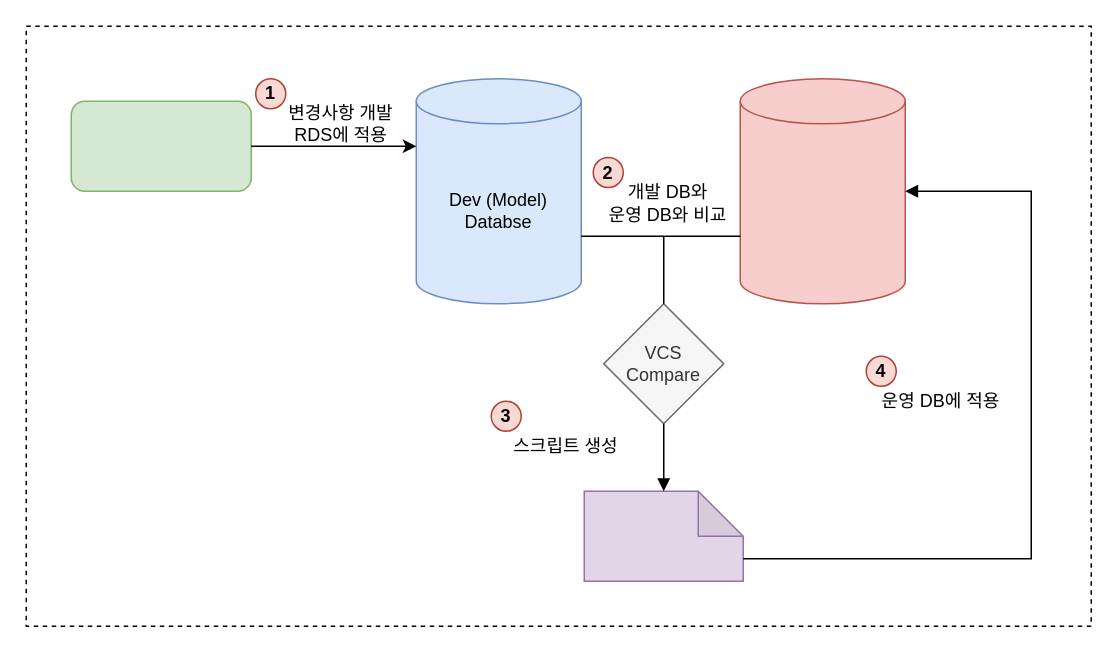
This 1118x653 diagram has some shape labels left out. The shapes that lost their labels are listed below. From the top down, each one's box as (x1, y1, x2, y2) in pixels, then its label:
(70, 100, 251, 191): 변경사항
(739, 77, 905, 304): Prd (Production) Databse
(583, 490, 743, 581): Upgrade Script
